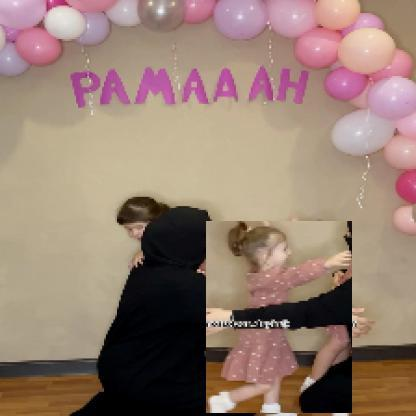child: (207, 222, 354, 415)
